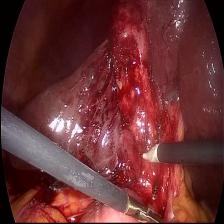Grasper: (125, 193, 169, 221)
Hook: (138, 134, 158, 168)
